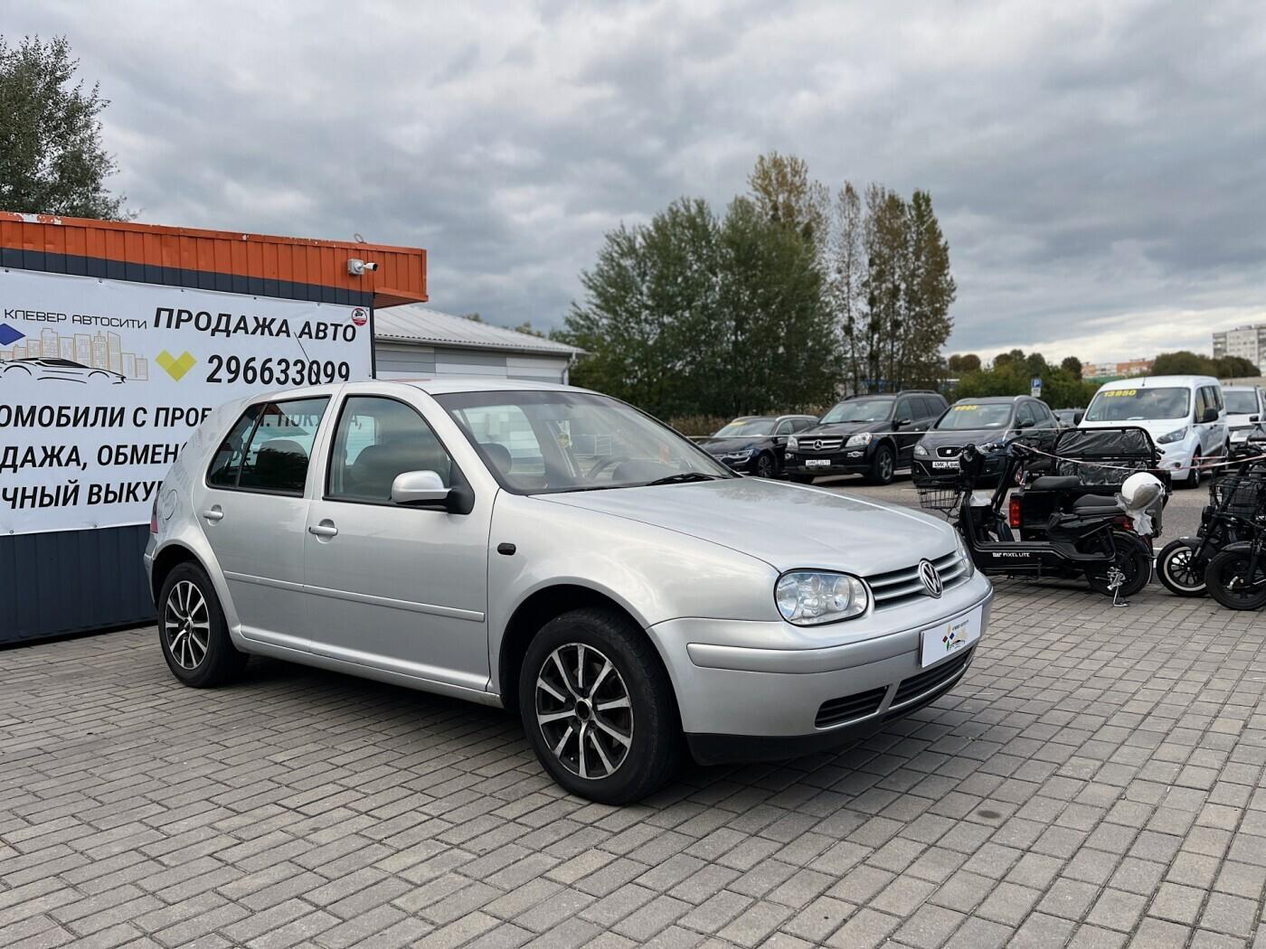Golf_1997-2006: (141, 382, 990, 793)
